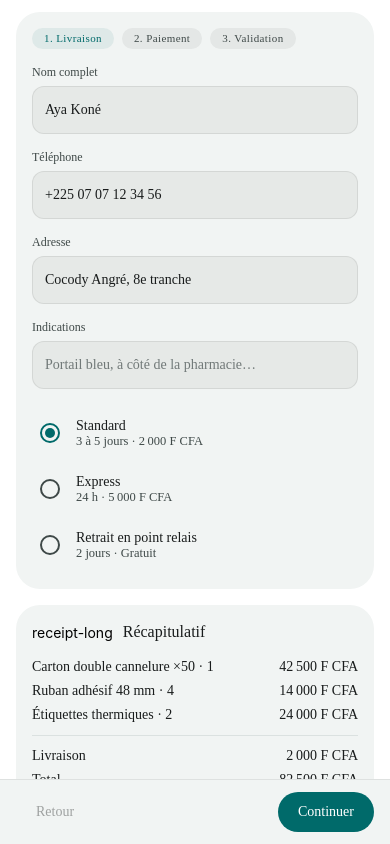
Test case: authentification et formulaires › commande : total et étapes
Click the button "Continuer" at {"x": 326, "y": 812}, box top-left (278, 792), bottom-right (374, 832)
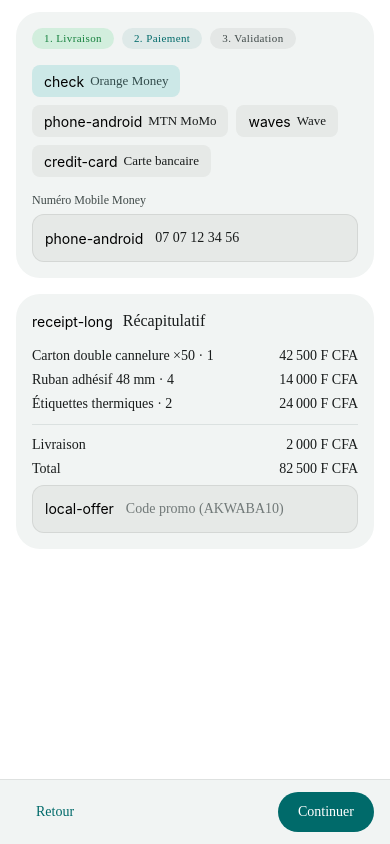
expect the text "Wave" is shown: met, box top-left (297, 113), bottom-right (326, 129)
